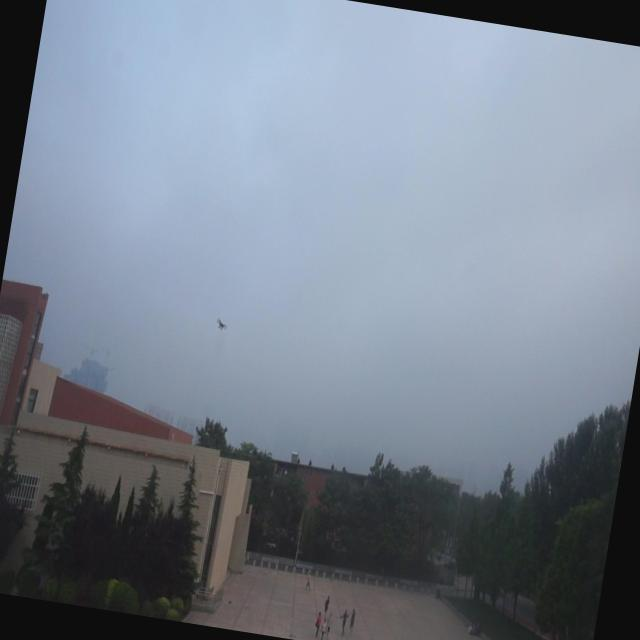drone: (213, 314, 230, 334)
